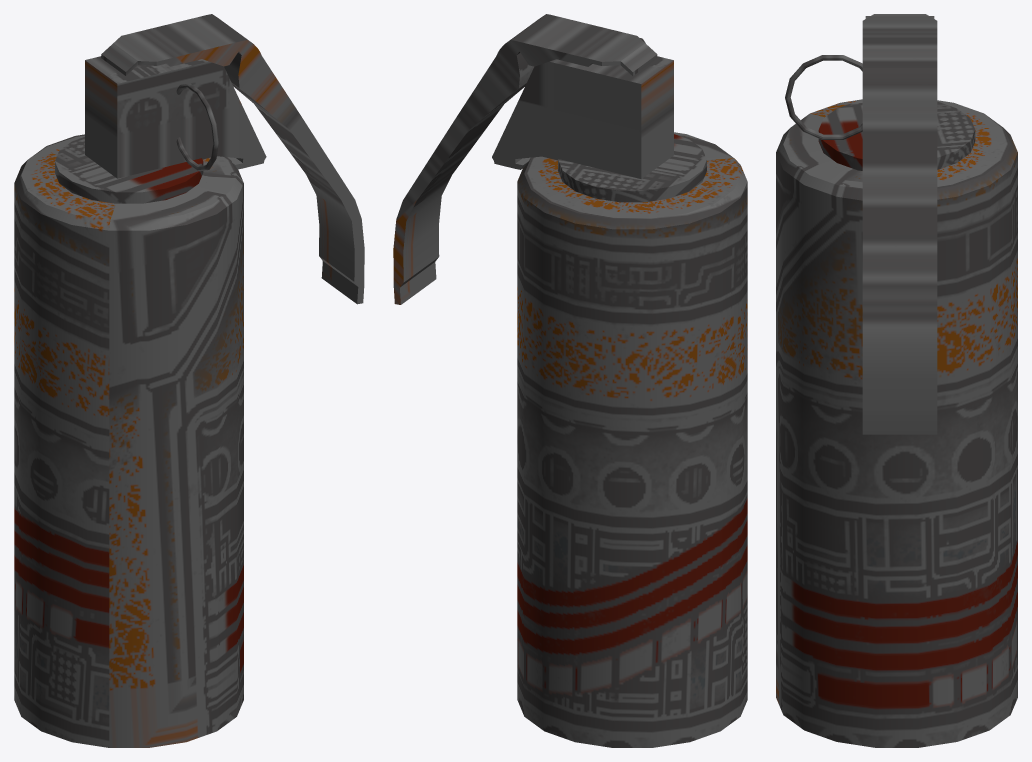
File: FLASH BOMB LOW  .fbx
The picture shows the model from 3 angles, left to right: view 1: azimuth 30°, elevation 25°; view 2: azimuth 150°, elevation 25°; view 3: azimuth 270°, elevation 25°; orthographic projection. The views are drawn at different scales.
Visible parts, largest first — view 1: Circle.002; view 2: Circle.002; view 3: Circle.002.
Boxes of the visible parts, x1,y1,x2,y2 form: Circle.002: [14, 14, 364, 747]; Circle.002: [393, 14, 747, 747]; Circle.002: [776, 14, 1017, 747].
Size of the model in its own units: 8.39 by 16.56 by 5.26.
